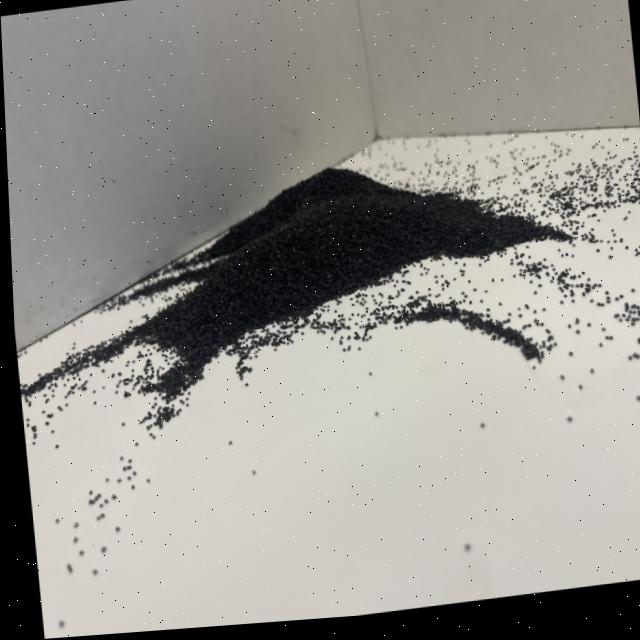Poppy Seeds: (113, 125, 556, 411)
